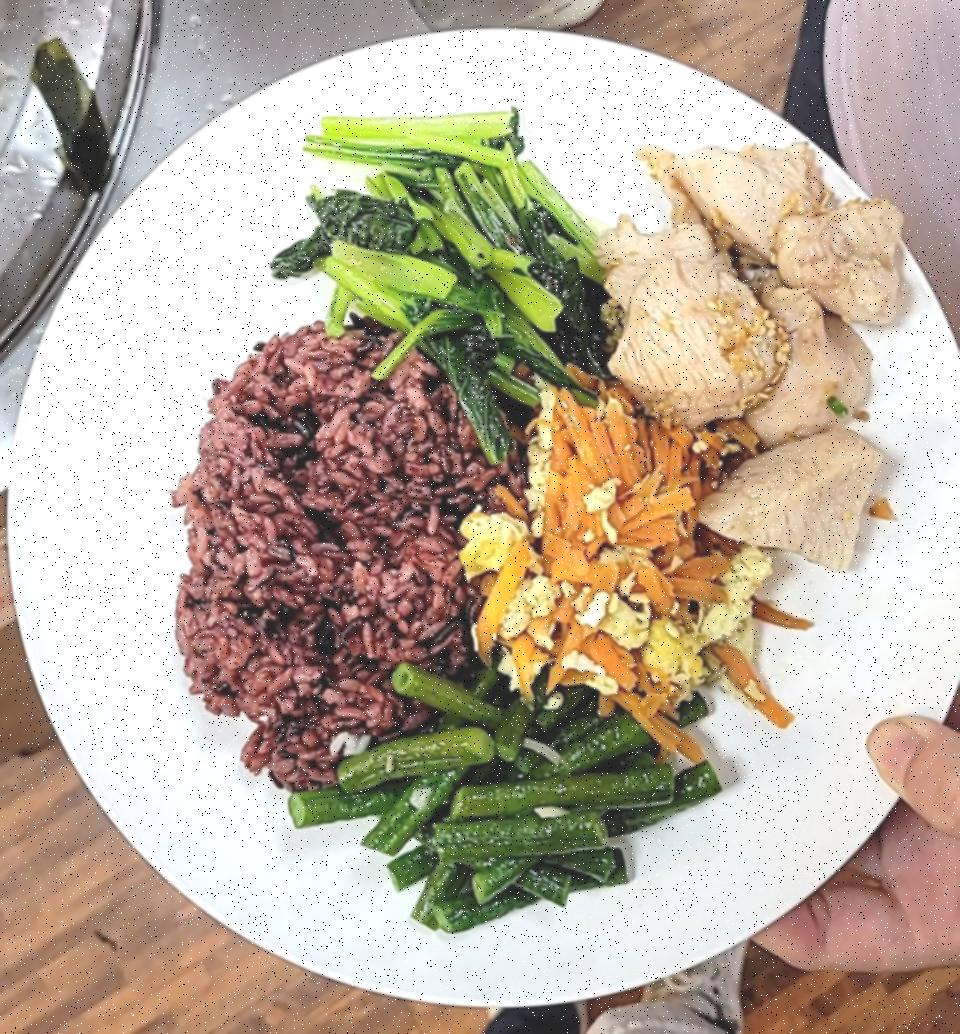plate: (3, 21, 952, 1018)
purple rice: (174, 308, 544, 760)
scallion chicken: (586, 130, 936, 576)
side dish: (277, 91, 621, 438), (464, 370, 778, 744), (294, 676, 706, 926)
